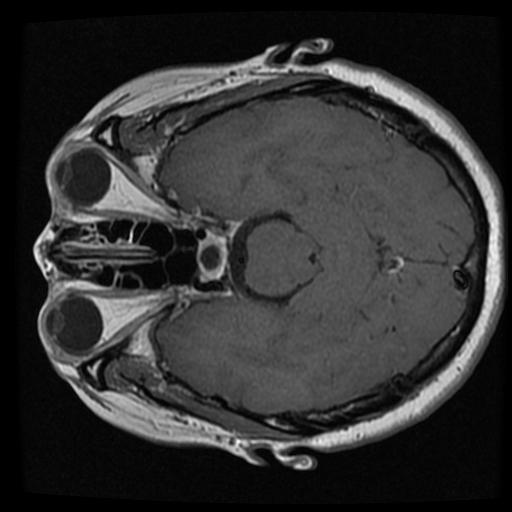pituitary tumour: (195, 230, 227, 282)
